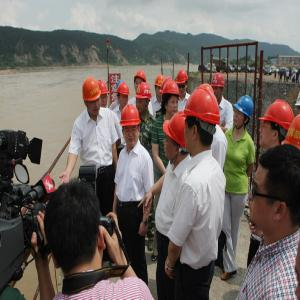blue: (234, 96, 255, 130)
none: (38, 179, 112, 279), (245, 144, 300, 240)
red: (185, 87, 219, 154), (259, 97, 295, 143), (162, 112, 191, 163), (120, 104, 142, 147), (82, 77, 103, 118), (160, 83, 181, 118), (135, 82, 153, 114), (116, 83, 132, 110), (97, 80, 110, 111), (212, 73, 226, 100), (176, 69, 188, 97), (134, 71, 148, 93), (154, 74, 165, 100)
